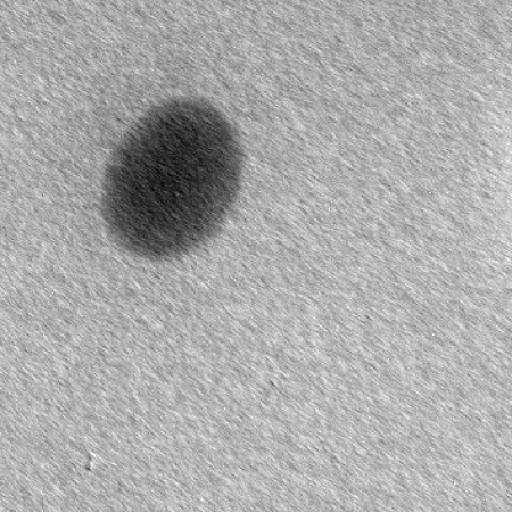Nanoparticles: (96, 92, 246, 266)
